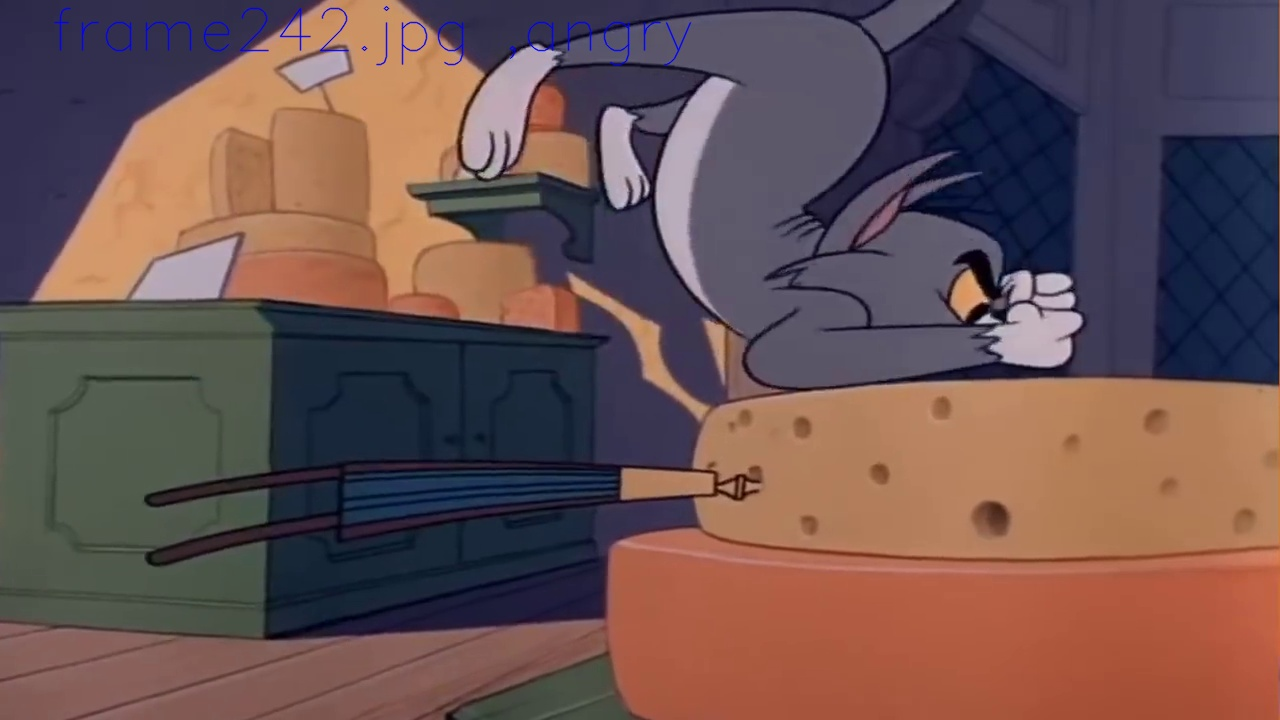angry: (943, 247, 1014, 333)
